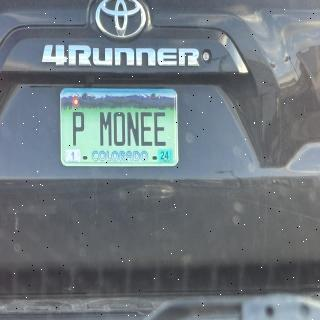license: (61, 88, 180, 169)
